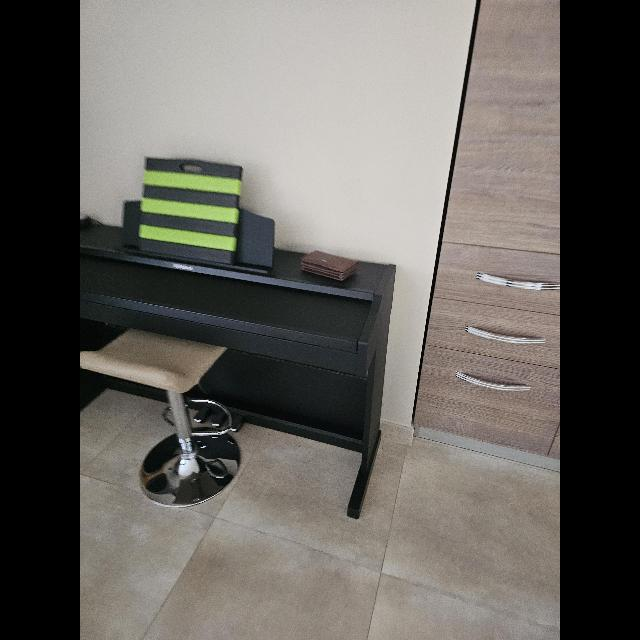Wallet: (302, 250, 361, 280)
